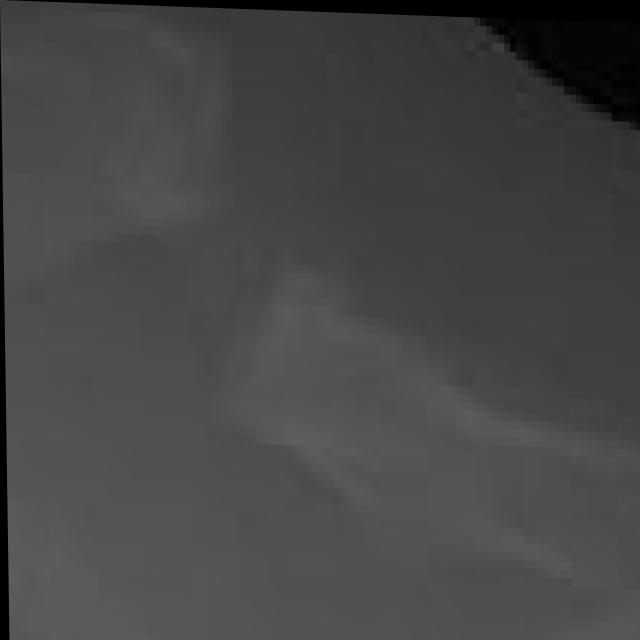fracture: (8, 0, 640, 640)
